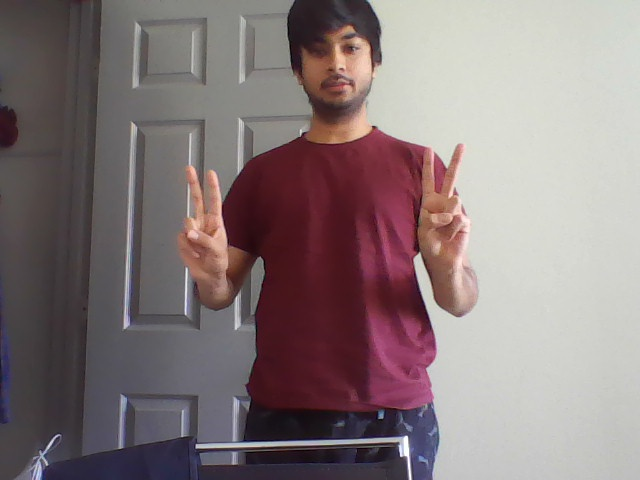two: (172, 159, 233, 241), (411, 138, 473, 214)
